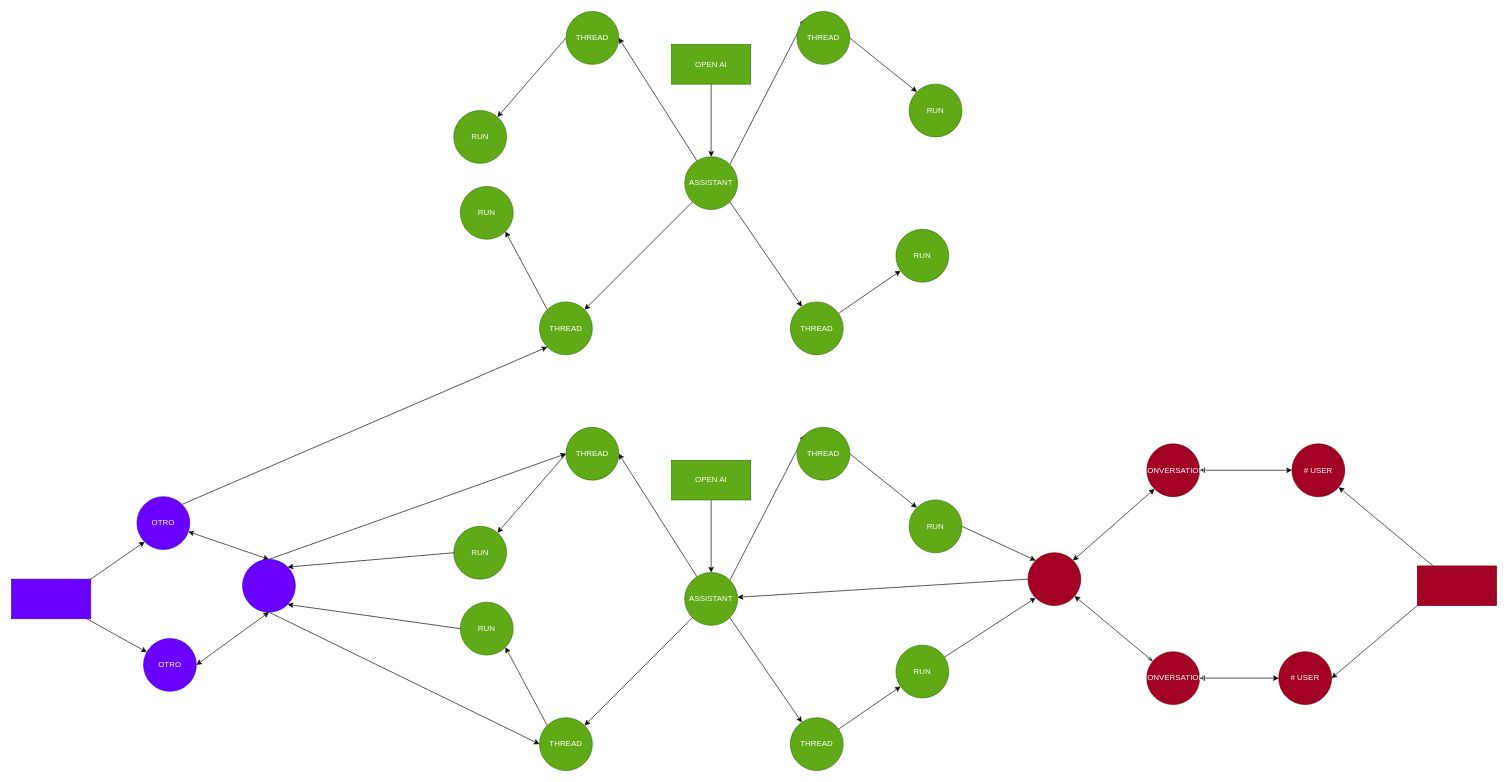
Image size: 1508x782. Some labels were removed from this diagram. Each missing label, with the box of its shape:
BOT: (1027, 552, 1081, 606)
INSTAGRAM: (11, 578, 91, 619)
TWILIO: (1417, 565, 1497, 606)
YO: (242, 559, 295, 612)
